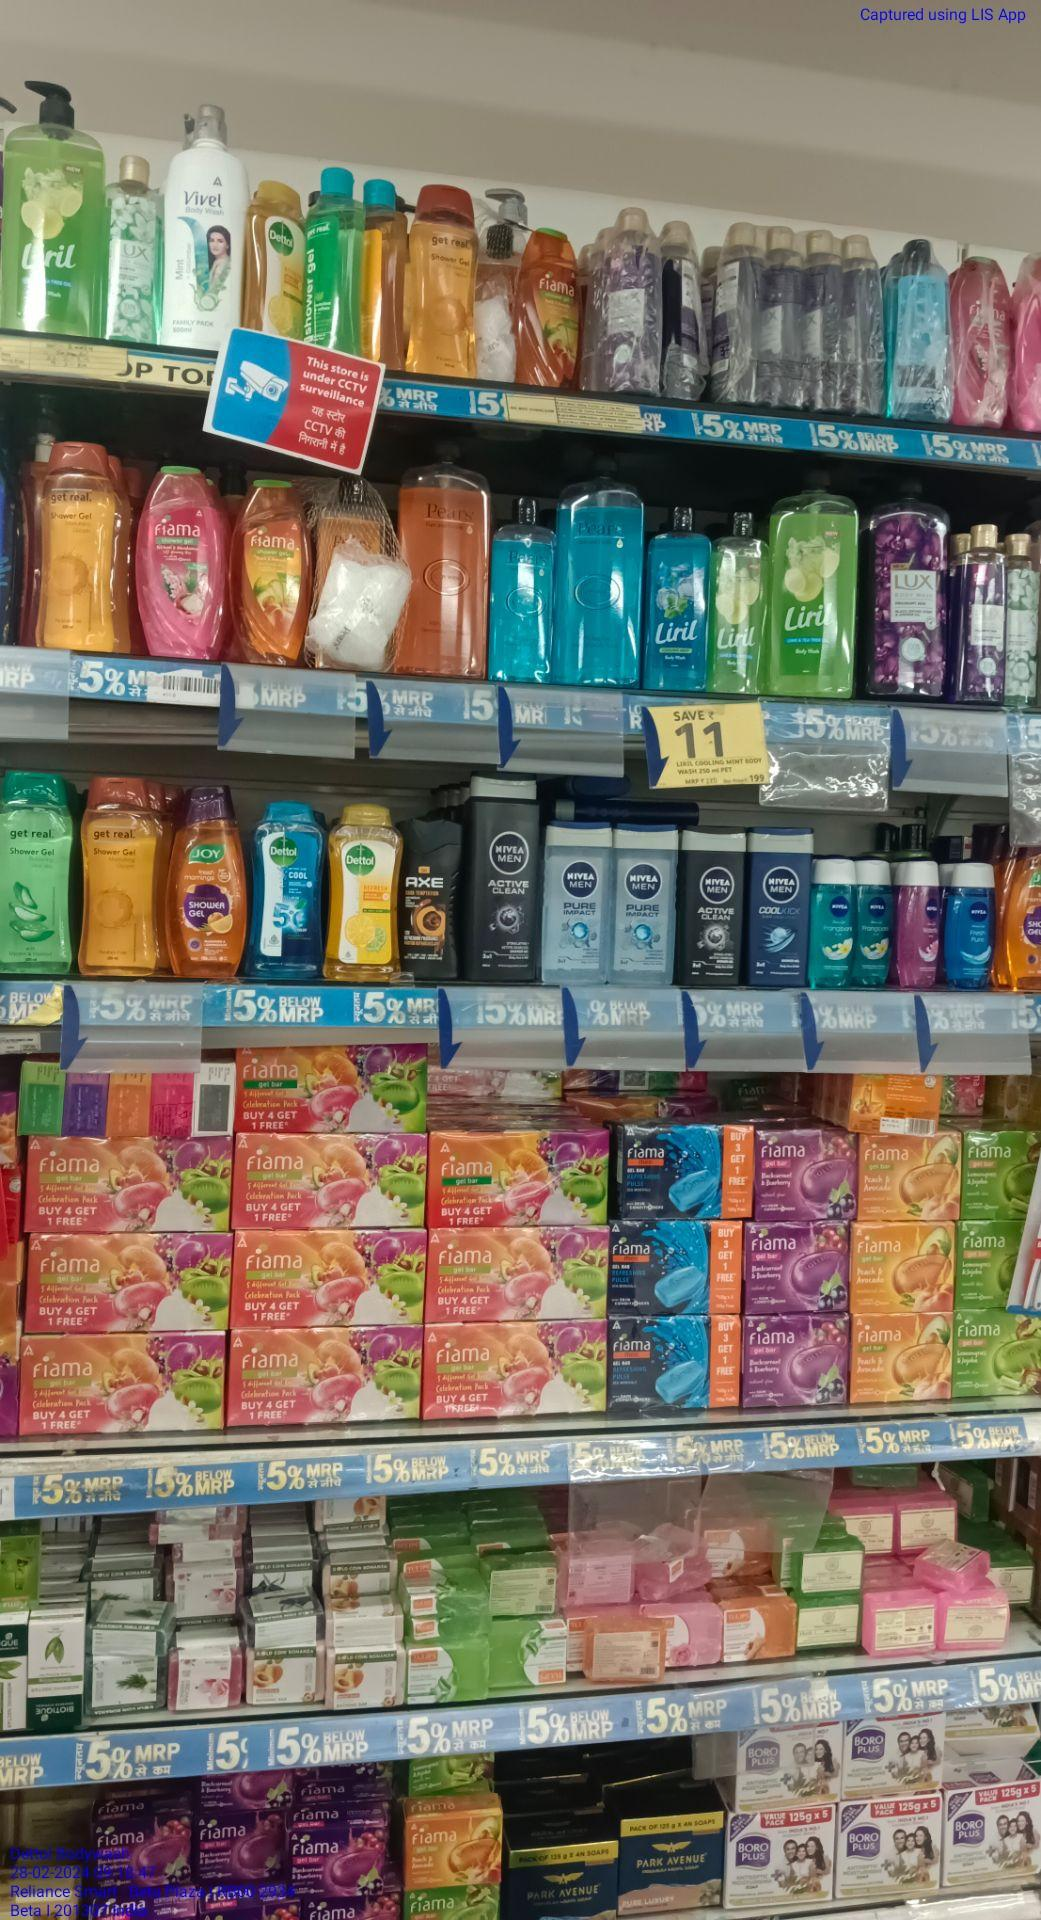Dettol_Bodywash_Cool: (250, 801, 324, 981)
Dettol_Bodywash_Refresh: (329, 802, 406, 986), (250, 179, 308, 337)
Fiama_Shower_Gel_Patchouli_and_Macadamia_250ML: (138, 468, 223, 663), (955, 244, 1013, 433)
Fiama_Shower_Gel_Peach_and_Avocado_250ML: (237, 473, 312, 664), (517, 220, 581, 387)
Joy_Shower_Gel_Mandarin_and_Lemongrass_250ML: (169, 777, 244, 978), (1009, 847, 1041, 989)
Liril_Cooling_Mint_Body_Wash_250ML: (647, 500, 710, 695)
Liril_Lime_and_Tea_Tree_Oil_Body_Wash_250ML: (715, 511, 768, 696)
Lux_Black_Orchid_Scent_and_Juniper_Oil_Body_Wash_245ML: (958, 524, 1006, 706)
Lux_Body_Wash_Skin_Detox_Freesia_Scent_and_Alove_Vera_245ML: (108, 149, 164, 342), (1008, 529, 1041, 710)
Nivea_Shower_Gel_Frangipani_and_Oil_250ML: (810, 851, 855, 991), (855, 856, 895, 992)
Nivea_Shower_Gel_Waterlily_and_Oil_250ML: (895, 856, 942, 991)
Pears_Pure_Glycerin_and_Mint_Extracts_Body_Wash_250ML: (495, 490, 555, 682)
